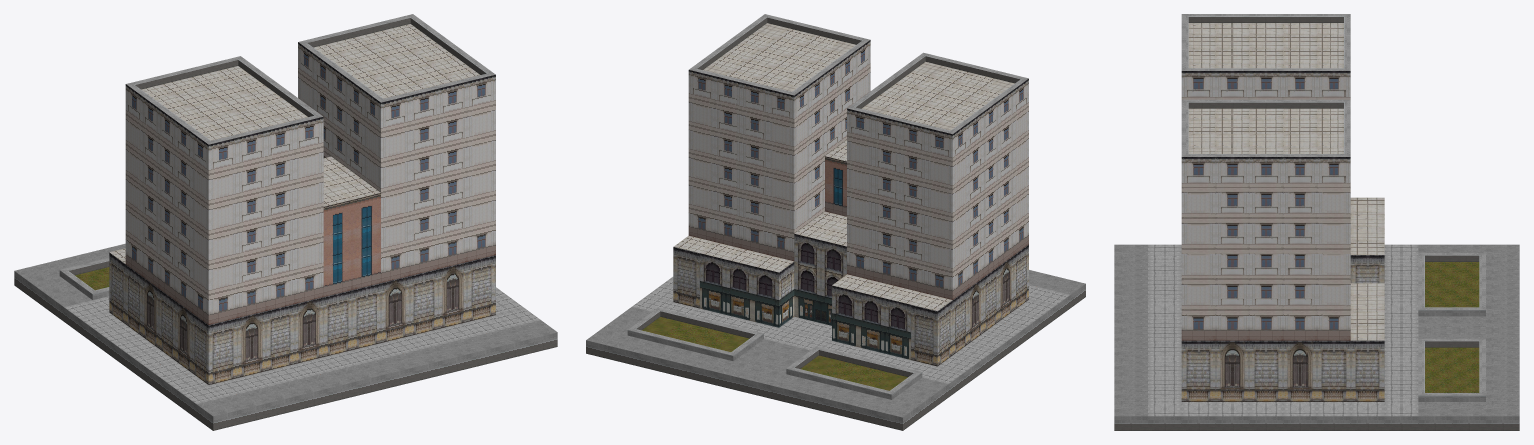
File: building_05_smooth.glb
The picture shows the model from 3 angles, left to right: view 1: azimuth 30°, elevation 25°; view 2: azimuth 150°, elevation 25°; view 3: azimuth 270°, elevation 25°; orthographic projection. The views are drawn at different scales.
Parts seen in each view (by area): view 1: building_05_smooth2; view 2: building_05_smooth2; view 3: building_05_smooth2.
Part boxes in pixels (x1,y1,x2,y2): building_05_smooth2: (14,14,557,430); building_05_smooth2: (586,14,1085,430); building_05_smooth2: (1114,14,1519,430).
Size of the model in its own units: 60 by 42.42 by 60.
1 material, 1 textured.
